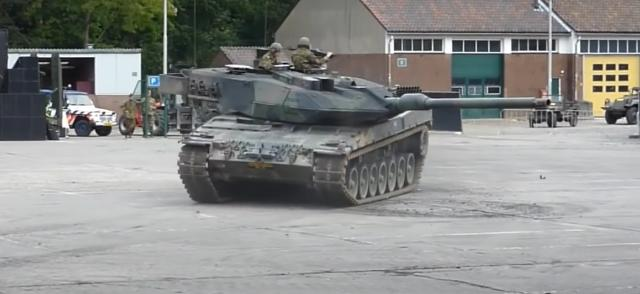other: (290, 34, 326, 72), (262, 39, 284, 63)
tank: (196, 69, 424, 199)
